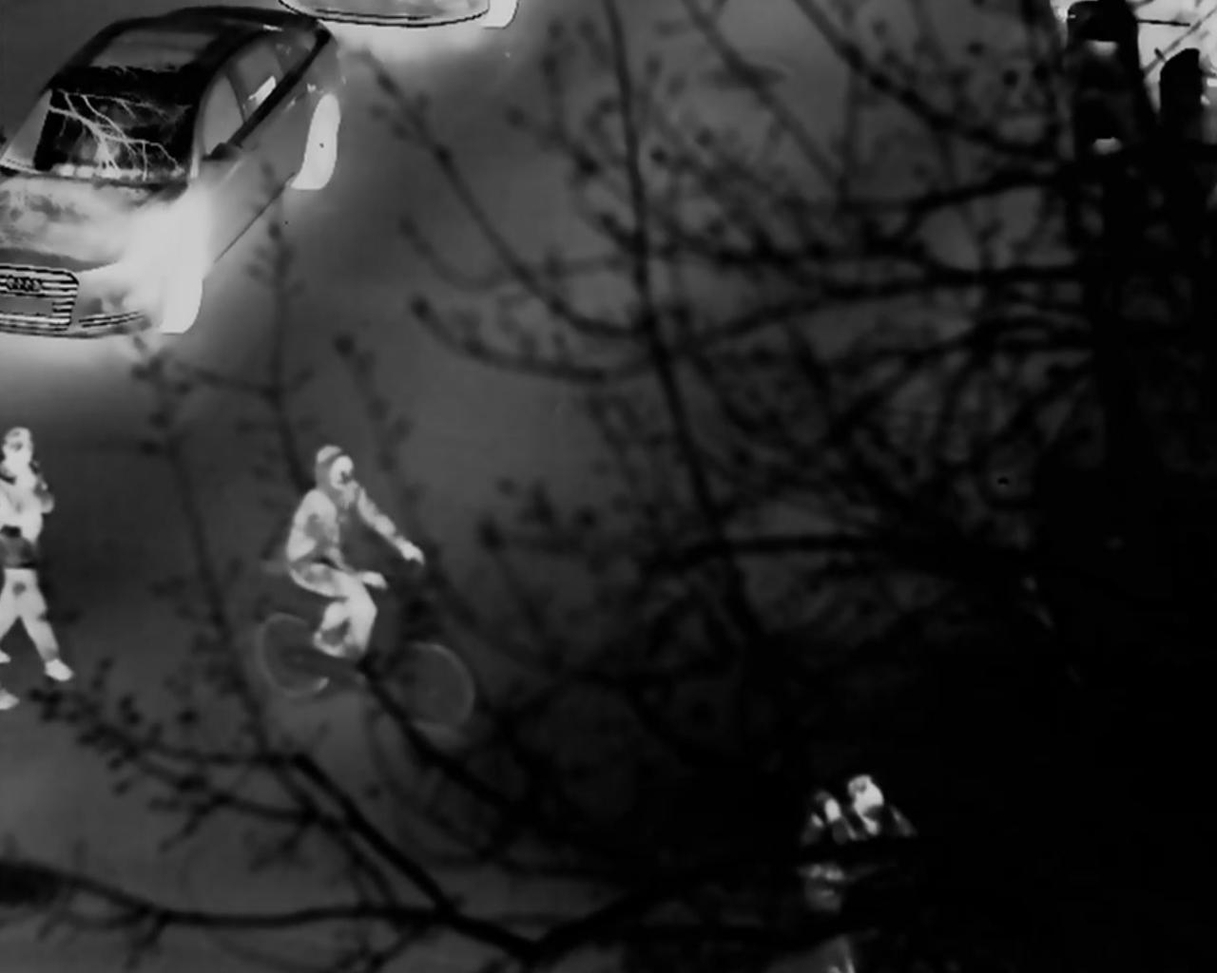person: (289, 445, 419, 666), (2, 419, 76, 683), (811, 773, 897, 900)
